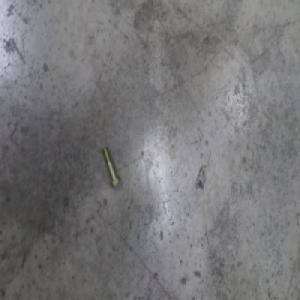Bolt: (100, 146, 119, 190)
